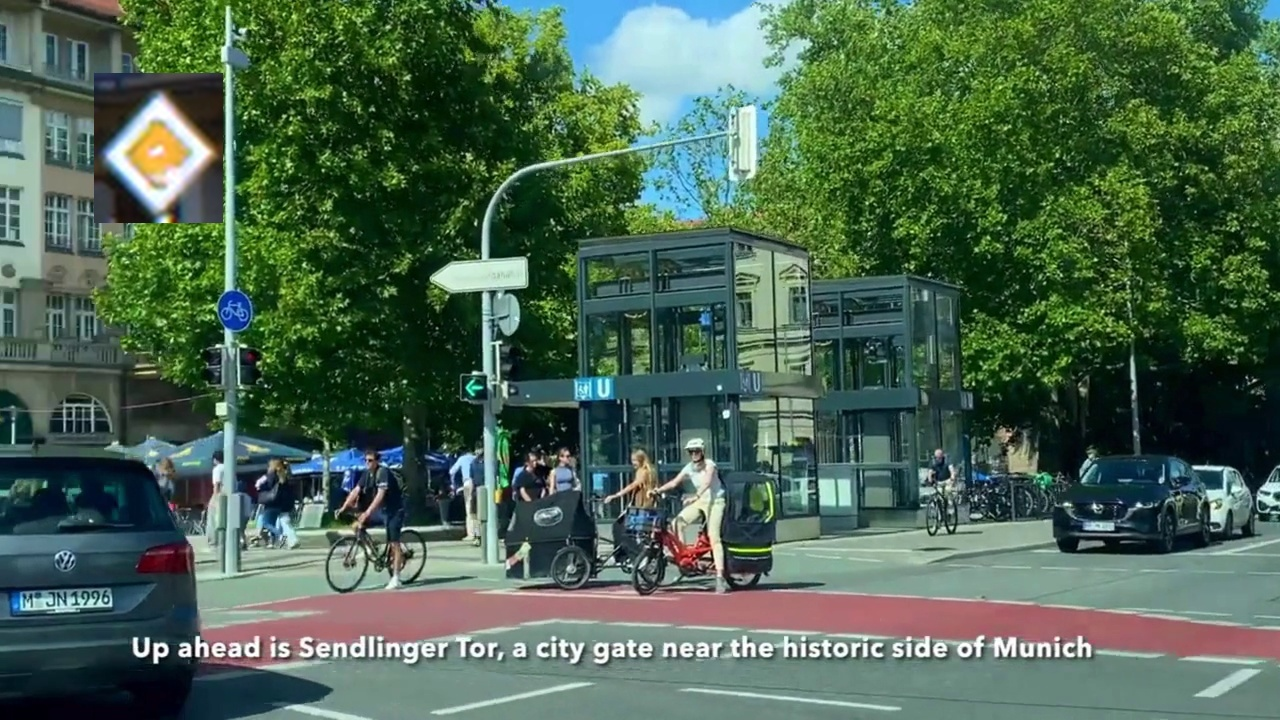Priority road: (94, 73, 223, 223)
